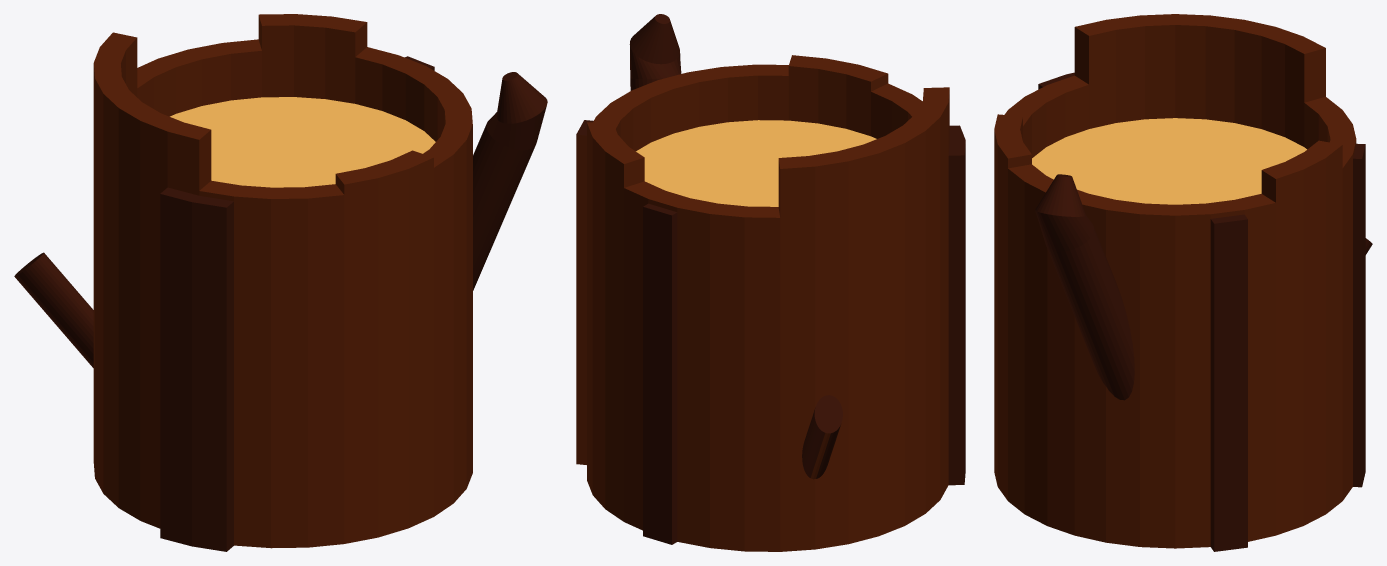
Rendered from stump.glb.
3 views of the same model, side by side, from view 1: azimuth 30°, elevation 25°; view 2: azimuth 150°, elevation 25°; view 3: azimuth 270°, elevation 25° (orthographic). The views are drawn at different scales.
Visible parts, largest first — view 1: Stump; view 2: Stump; view 3: Stump.
Part boxes in pixels (x1,y1,x2,y2): Stump: (14, 14, 547, 551); Stump: (576, 14, 965, 551); Stump: (994, 14, 1372, 551).
Size of the model in its own units: 1.2 by 1.24 by 1.11.
